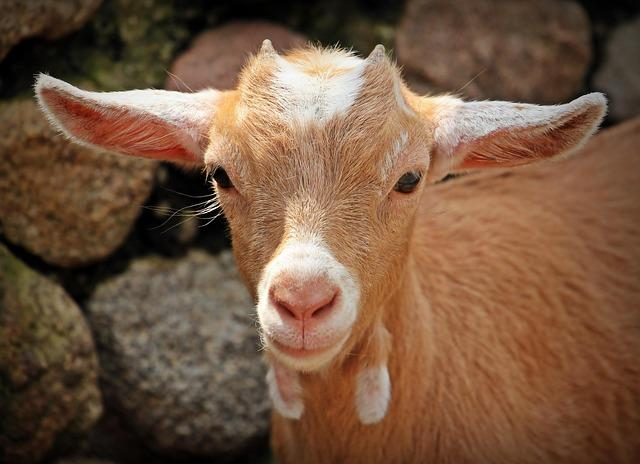Non_Gorille: (38, 15, 603, 464)
